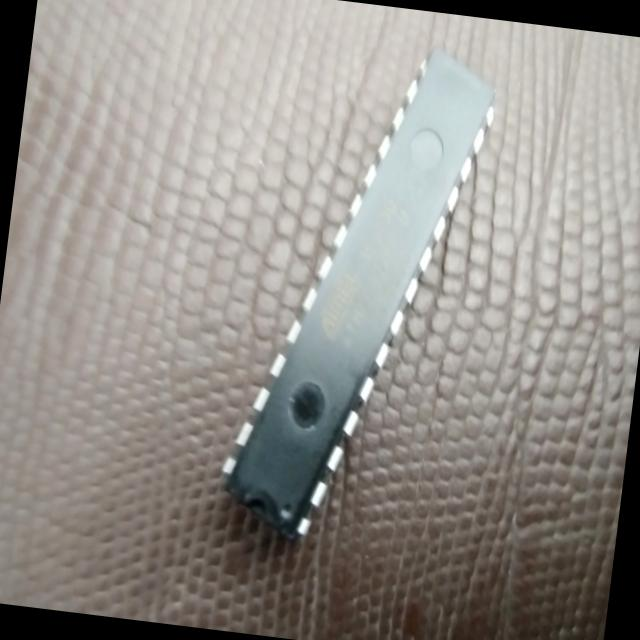atmega: (212, 24, 504, 562)
